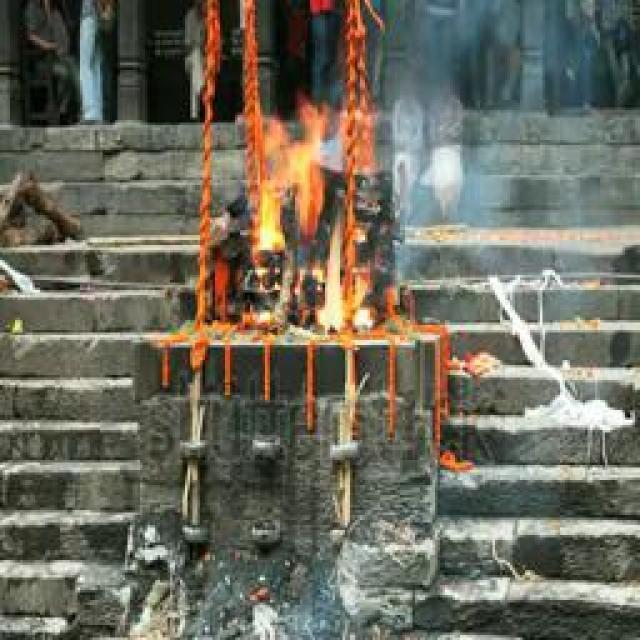Fire: (252, 101, 373, 332)
